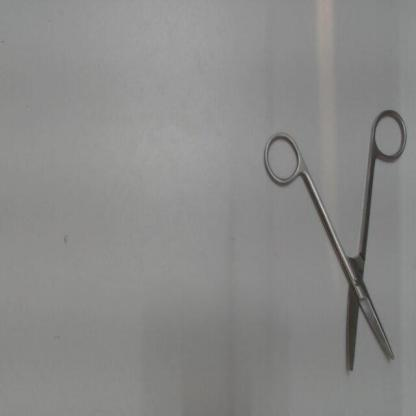Curved Mayo Scissors: (259, 105, 411, 386)
